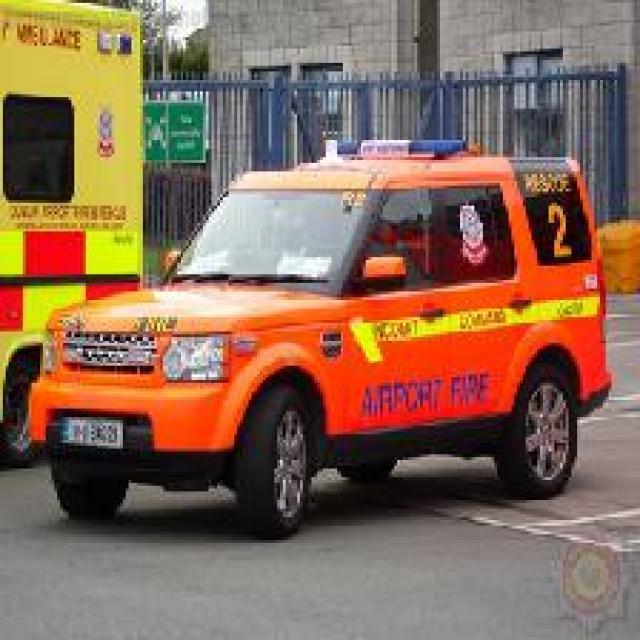emergency: (22, 136, 614, 540), (1, 2, 147, 470)
